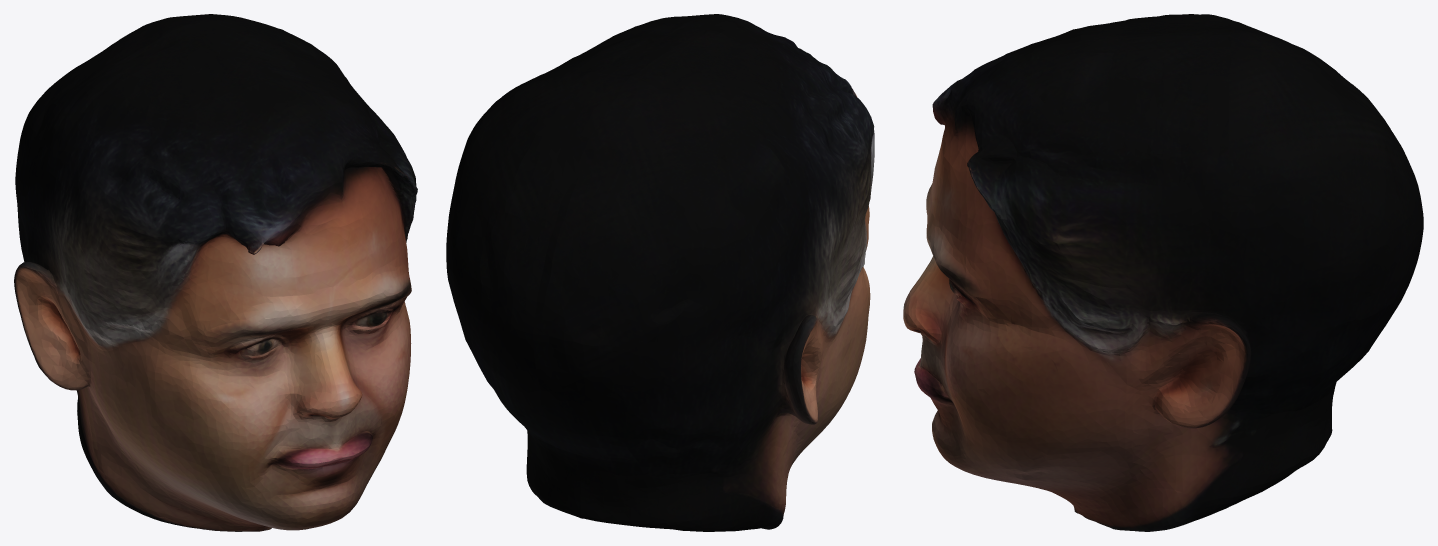
The model's file is father_head.glb.
3 renders of one model, left to right at view 1: azimuth 30°, elevation 25°; view 2: azimuth 150°, elevation 25°; view 3: azimuth 270°, elevation 25°, orthographic. The views are drawn at different scales.
Visible parts, largest first — view 1: geometry_0; view 2: geometry_0; view 3: geometry_0.
Part boxes in pixels (x1,y1,x2,y2): geometry_0: (14, 14, 417, 531); geometry_0: (446, 14, 874, 531); geometry_0: (903, 14, 1423, 531).
Size of the model in its own units: 0.5398 by 0.7003 by 0.6974.
Materials: 1 (1 with a texture image).
